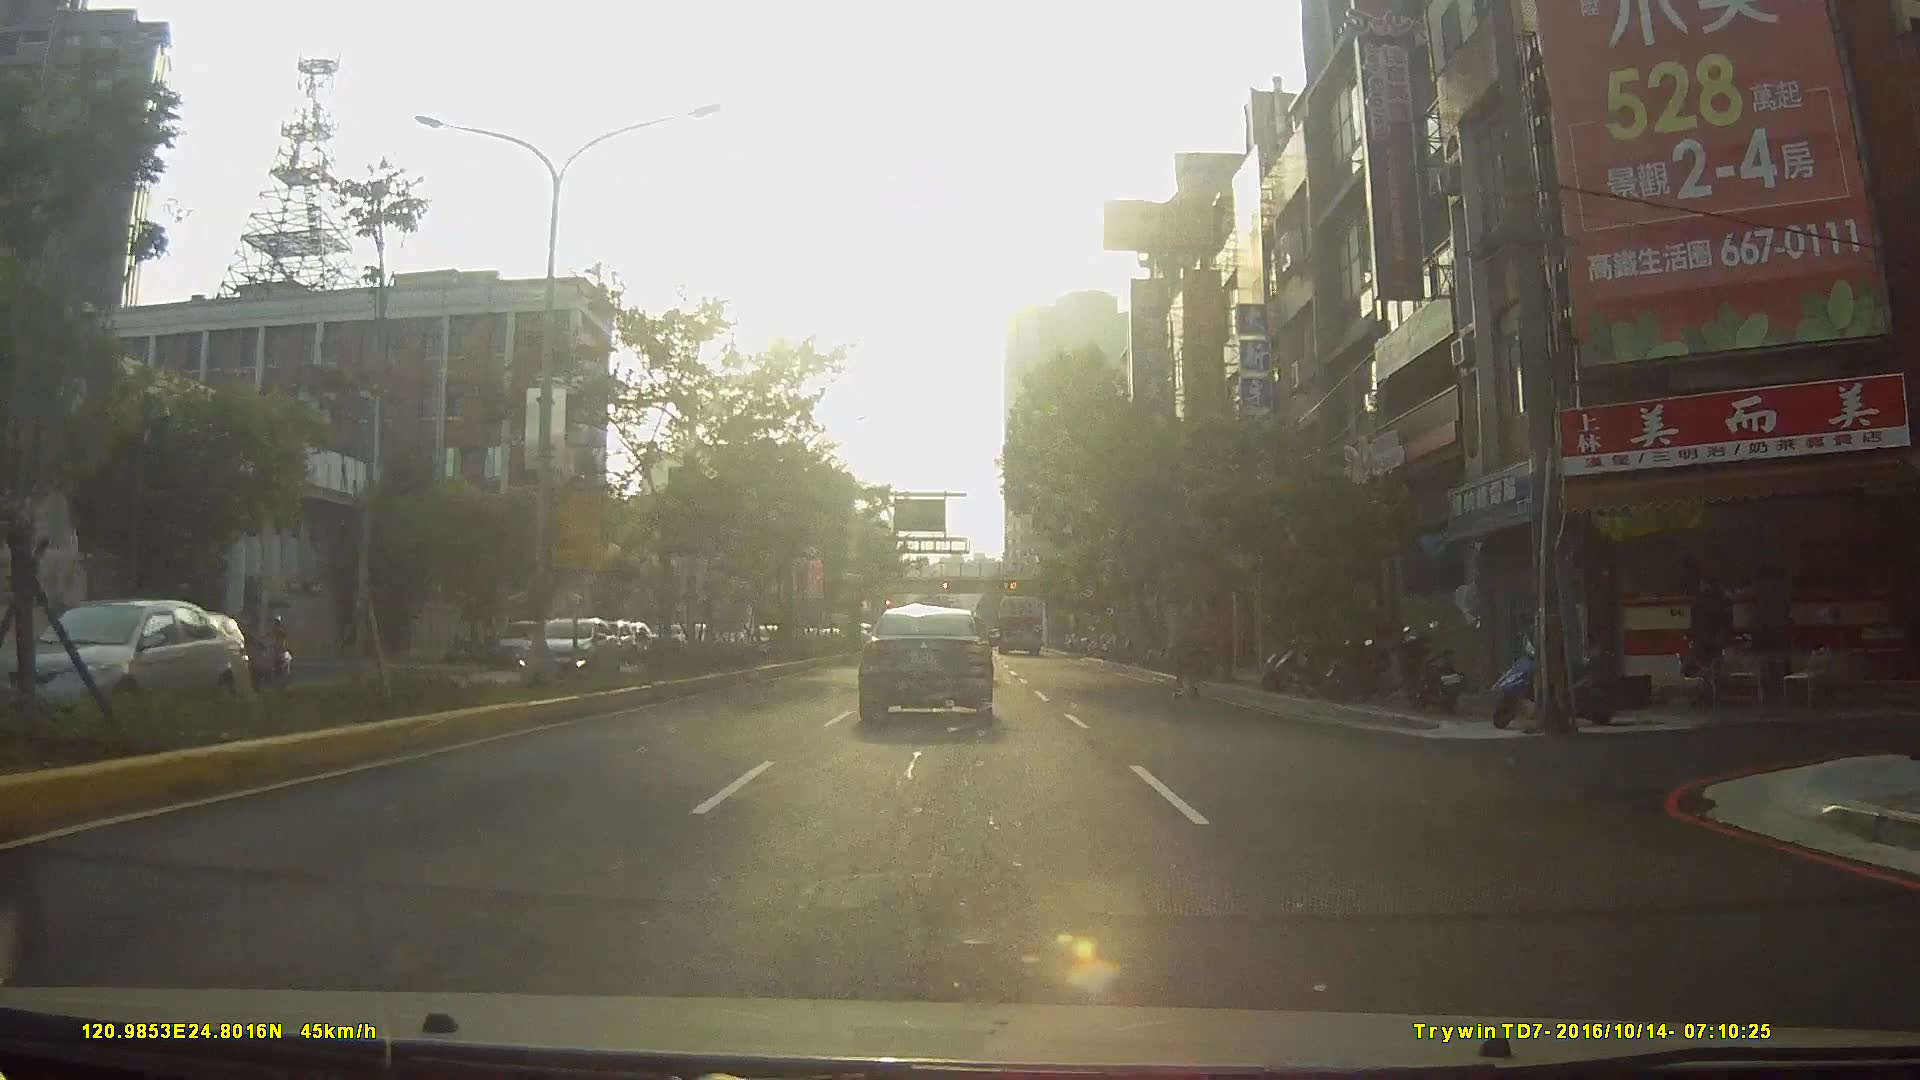pedestrian: (1168, 607, 1209, 705)
vehicle: (1, 586, 266, 742), (855, 602, 996, 724), (519, 612, 629, 690), (992, 593, 1043, 657), (493, 619, 554, 666)
